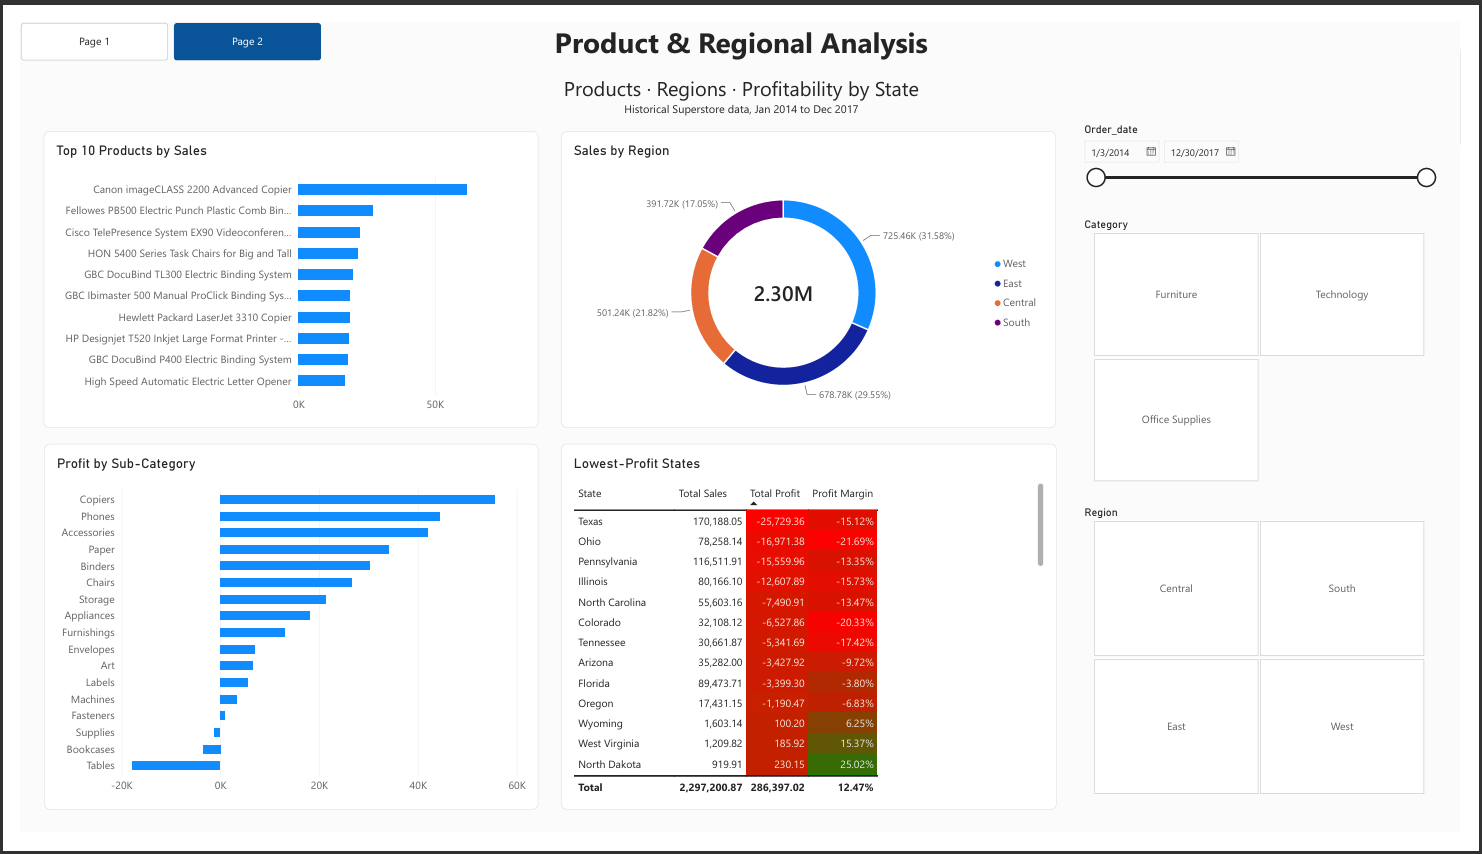

What the dashboard file says about the page in this screenshot:
{"tool":"powerbi","page":{"name":"Regions","canvas":[1920,1080],"ordinal":4},"visuals":[{"type":"clusteredBarChart","title":"Top 10 Products by Sales","fields":{"Category":["superstore.product_name"],"Y":["superstore.total sales"]},"box":[30,144.4,660,395.6],"z":0},{"type":"donutChart","title":"Sales by Region","fields":{"Category":["superstore.region"],"Y":["superstore.total sales"]},"box":[720,144.4,660,395.6],"z":1000},{"type":"clusteredBarChart","title":"Profit by Sub-Category","fields":{"Category":["superstore.sub_category"],"Y":["superstore.total profit"]},"box":[31.1,561.1,658.9,487.8],"z":2000},{"type":"tableEx","title":"Lowest-Profit States","fields":{"Values":["superstore.state","superstore.total sales","superstore.total profit","superstore.profit margin"]},"box":[720,561.1,661.1,487.8],"z":3000},{"type":"slicer","fields":{"Values":["superstore.order_date"]},"box":[1410,134.4,480,150],"z":4000},{"type":"slicer","fields":{"Values":["superstore.category"]},"box":[1410,260,480,353.3],"z":5000},{"type":"slicer","fields":{"Values":["superstore.region"]},"box":[1410,644.4,480,385.6],"z":6000},{"type":"textbox","box":[31.1,0,1858.9,125.6],"z":7000},{"type":"pageNavigator","box":[30.6,0,600,50.5],"z":8000}]}

Visuals, with their boxes in screenshot pixels (x1, y1, x2, y2), scaled from the page's 1920x1080 canvas onto the 1482x854 screenshot:
"Top 10 Products by Sales" clusteredBarChart: {"left": 23, "top": 114, "right": 533, "bottom": 427}
"Sales by Region" donutChart: {"left": 556, "top": 114, "right": 1065, "bottom": 427}
"Profit by Sub-Category" clusteredBarChart: {"left": 24, "top": 444, "right": 533, "bottom": 829}
"Lowest-Profit States" tableEx: {"left": 556, "top": 444, "right": 1066, "bottom": 829}
slicer - superstore.order_date: {"left": 1088, "top": 106, "right": 1459, "bottom": 225}
slicer - superstore.category: {"left": 1088, "top": 206, "right": 1459, "bottom": 485}
slicer - superstore.region: {"left": 1088, "top": 510, "right": 1459, "bottom": 814}
textbox: {"left": 24, "top": 0, "right": 1459, "bottom": 99}
pageNavigator: {"left": 24, "top": 0, "right": 487, "bottom": 40}
